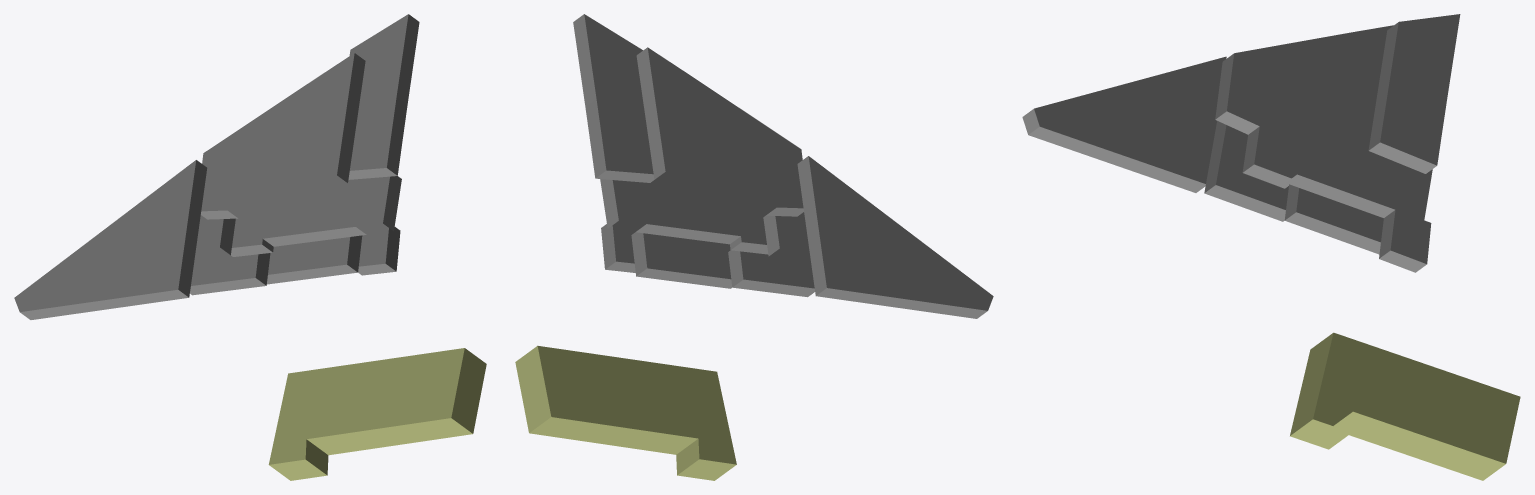
3 views of the same model, side by side, from view 1: azimuth 30°, elevation 25°; view 2: azimuth 150°, elevation 25°; view 3: azimuth 330°, elevation 25° (orthographic). The views are drawn at different scales.
Parts seen in each view (by area): view 1: 0_2_1_3_0_0_2_1; view 2: 0_2_1_3_0_0_2_1; view 3: 0_2_1_3_0_0_2_1.
Boxes of the visible parts, x1,y1,x2,y2 form: 0_2_1_3_0_0_2_1: (14,14,486,480); 0_2_1_3_0_0_2_1: (515,14,993,480); 0_2_1_3_0_0_2_1: (1022,14,1520,480).
Bounding box in the file's own units: 71.83 × 63.46 × 6.
